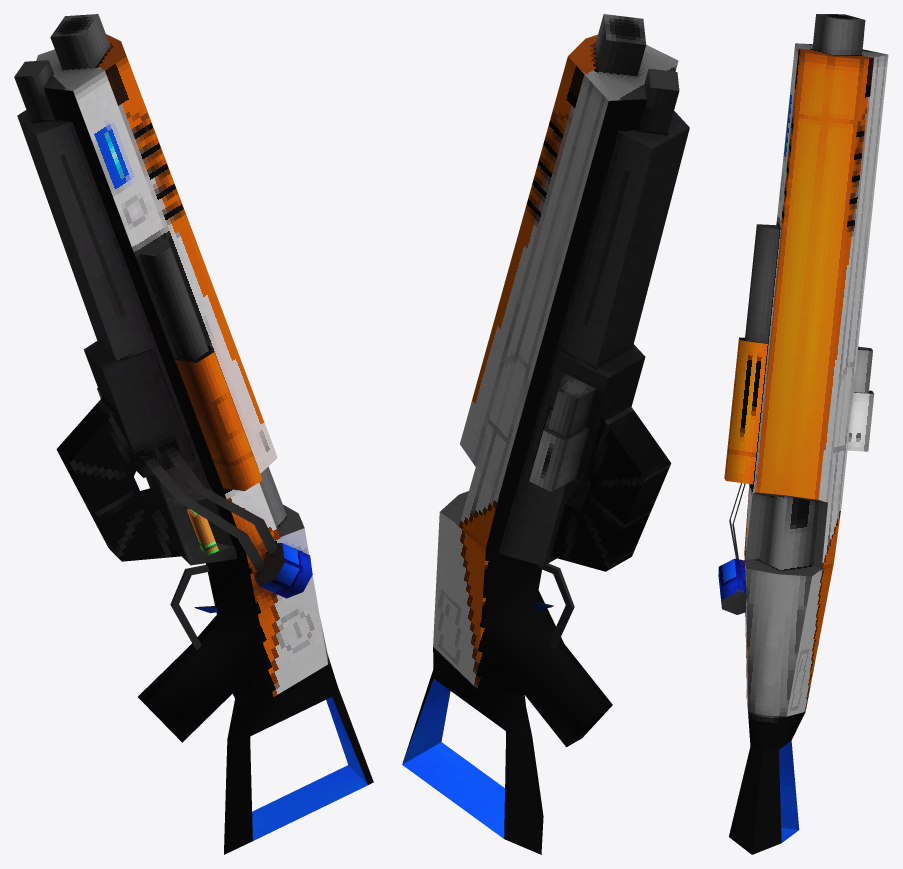
Rendered from exo_red.gltf.
3 views of the same model, side by side, from view 1: azimuth 30°, elevation 25°; view 2: azimuth 150°, elevation 25°; view 3: azimuth 270°, elevation 25° (orthographic). The views are drawn at different scales.
Visible parts, largest first — view 1: shotgun.001; view 2: shotgun.001; view 3: shotgun.001.
Boxes of the visible parts, x1,y1,x2,y2 form: shotgun.001: (14, 14, 373, 854); shotgun.001: (402, 14, 689, 854); shotgun.001: (718, 14, 888, 854).
Bounding box in the file's own units: 0.3419 × 0.8917 × 0.1771.
1 material, 1 textured.
